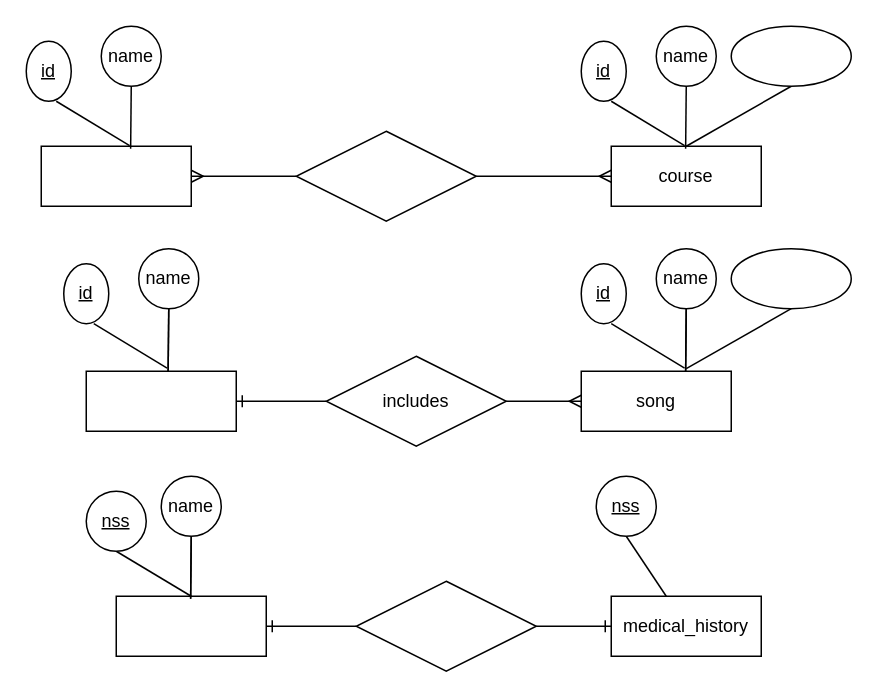
Image size: 878x698. Some labels were removed from this diagram. Each missing label, with the box of its shape:
album: (85, 370, 236, 431)
duration: (730, 247, 851, 309)
has: (355, 580, 536, 671)
patient: (115, 595, 266, 656)
starting_date: (730, 25, 851, 86)
teacher: (40, 145, 191, 206)
teaches: (295, 130, 476, 221)
